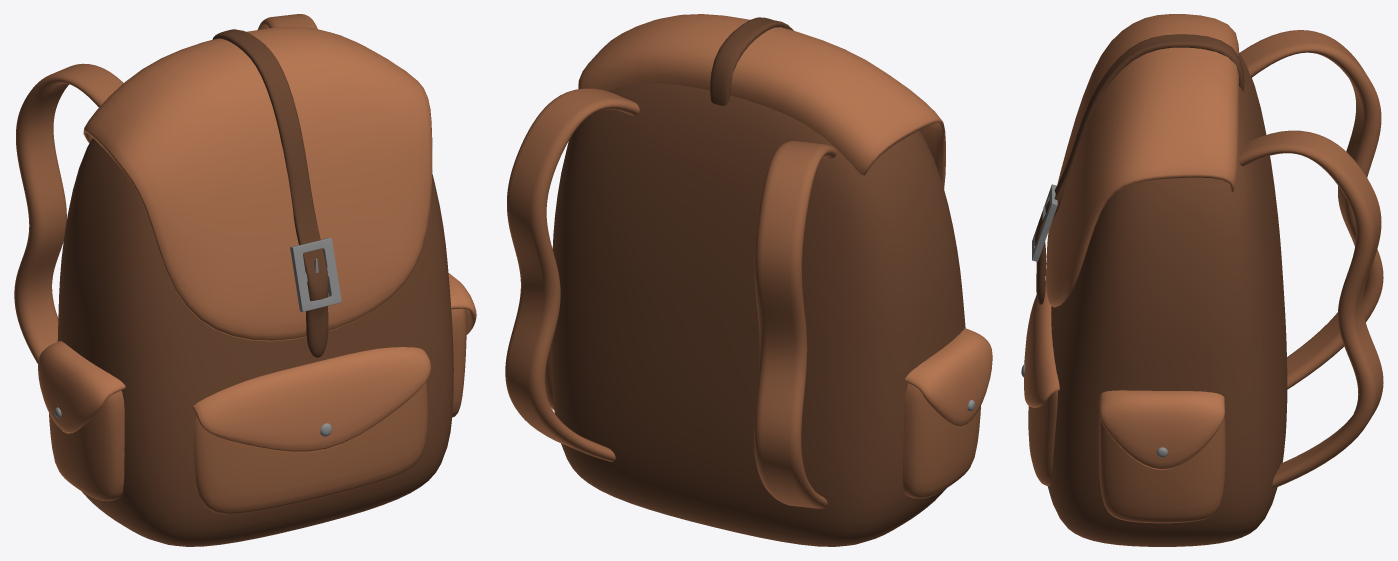
The model's file is backpack.glb.
3 renders of one model, left to right at view 1: azimuth 30°, elevation 25°; view 2: azimuth 150°, elevation 25°; view 3: azimuth 270°, elevation 25°, orthographic. The views are drawn at different scales.
Parts seen in each view (by area): view 1: top cover_0, main part of the backpack_6, back cover_10, back pocket_9, backpack straps_8, strap_1, side pockets_2, side covers_3, clasp_7; view 2: main part of the backpack_6, backpack straps_8, top cover_0, side pockets_2, side covers_3, strap_1; view 3: main part of the backpack_6, top cover_0, backpack straps_8, side pockets_2, side covers_3, strap_1, back cover_10, back pocket_9, clasp_7.
Part boxes in pixels (bbox=[...]): top cover_0: bbox=[83, 26, 432, 341]; main part of the backpack_6: bbox=[57, 138, 453, 546]; back cover_10: bbox=[192, 347, 430, 452]; back pocket_9: bbox=[193, 381, 427, 514]; backpack straps_8: bbox=[14, 14, 317, 363]; strap_1: bbox=[212, 29, 328, 357]; side pockets_2: bbox=[49, 308, 466, 501]; side covers_3: bbox=[38, 273, 476, 433]; clasp_7: bbox=[290, 237, 341, 311]; main part of the backpack_6: bbox=[551, 83, 965, 546]; backpack straps_8: bbox=[505, 88, 836, 508]; top cover_0: bbox=[578, 14, 945, 188]; side pockets_2: bbox=[545, 347, 980, 498]; side covers_3: bbox=[904, 328, 992, 427]; strap_1: bbox=[710, 17, 793, 105]; main part of the backpack_6: bbox=[1047, 52, 1287, 546]; top cover_0: bbox=[1046, 14, 1238, 307]; backpack straps_8: bbox=[1238, 30, 1383, 488]; side pockets_2: bbox=[1099, 417, 1225, 523]; side covers_3: bbox=[1099, 390, 1224, 469]; strap_1: bbox=[1034, 34, 1244, 304]; back cover_10: bbox=[1024, 281, 1059, 407]; back pocket_9: bbox=[1028, 391, 1057, 486]; clasp_7: bbox=[1032, 184, 1057, 261].
Bounding box in the file's own units: 0.4342 × 0.4753 × 0.3379.
